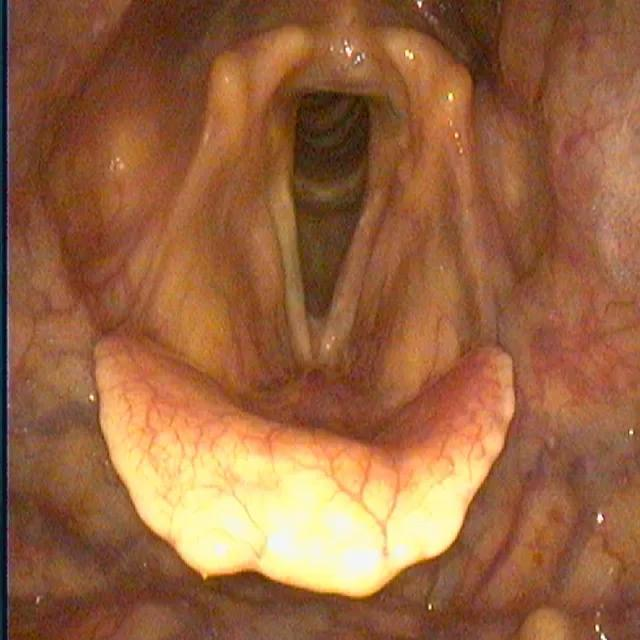arytenoid cartilagerotation: (195, 19, 478, 225)
epiglottisrotation: (89, 319, 518, 602)
larynxrotation: (261, 95, 395, 375)
